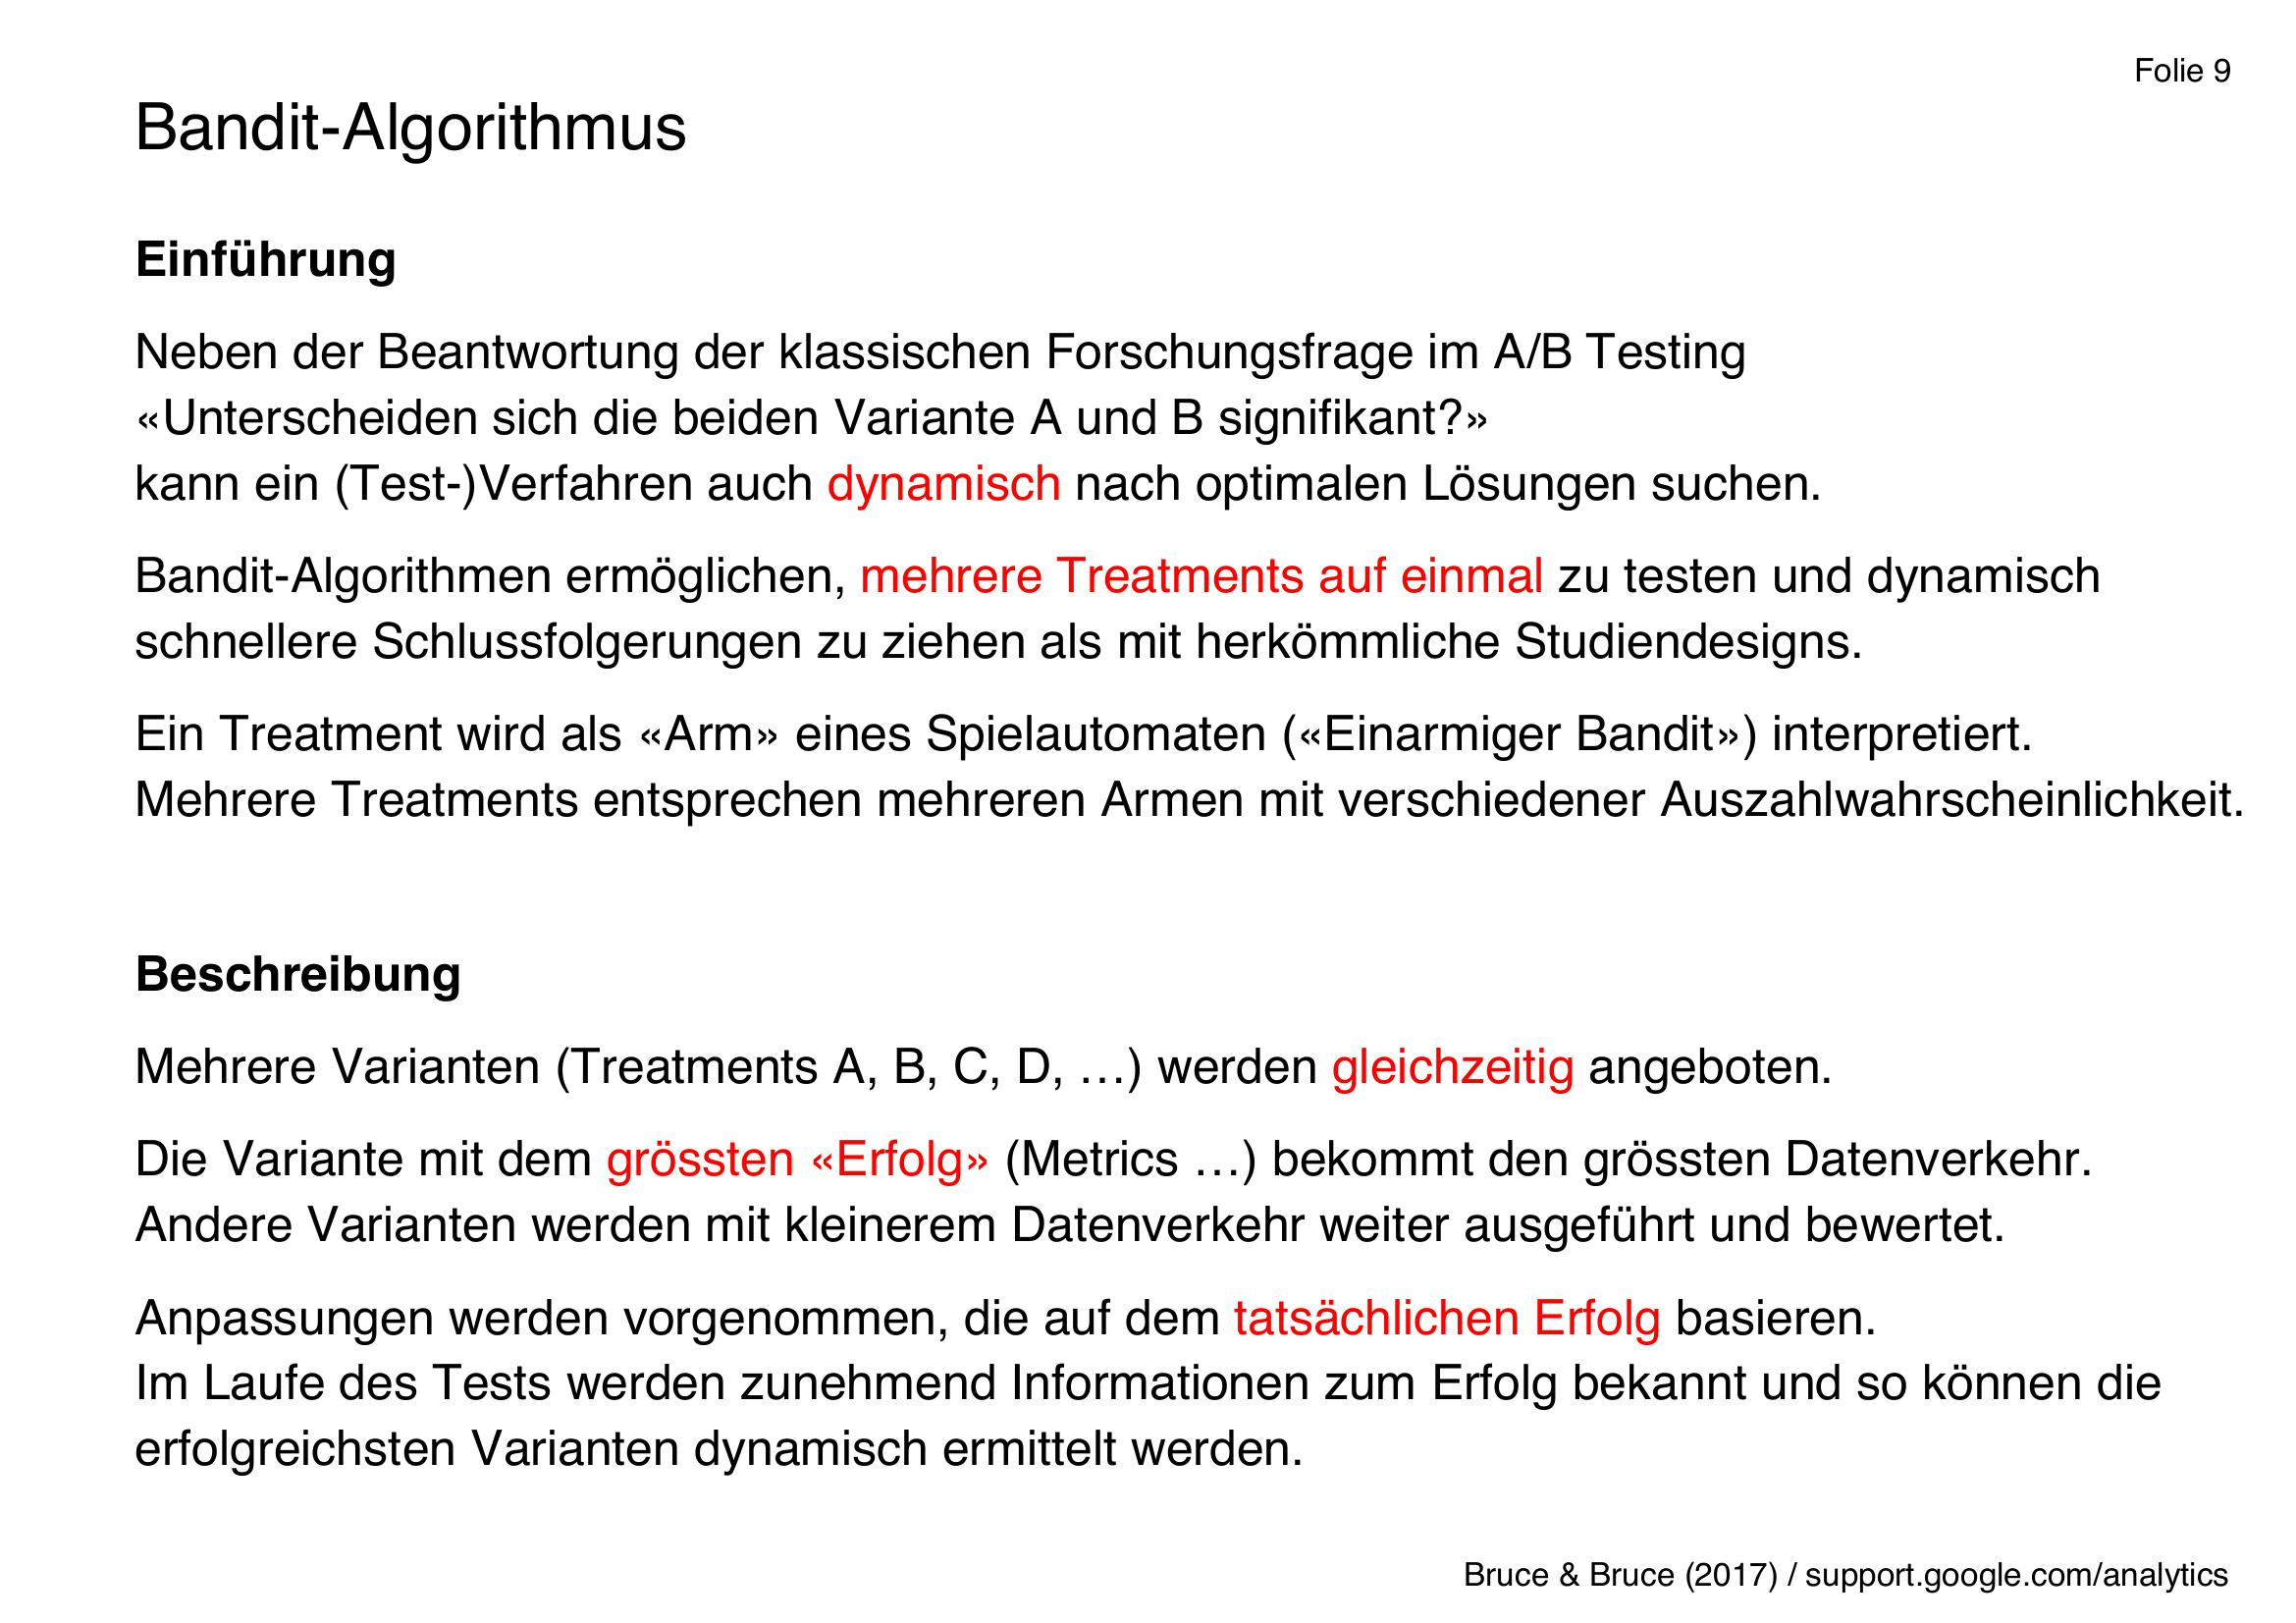Title: (111, 69, 699, 181)
